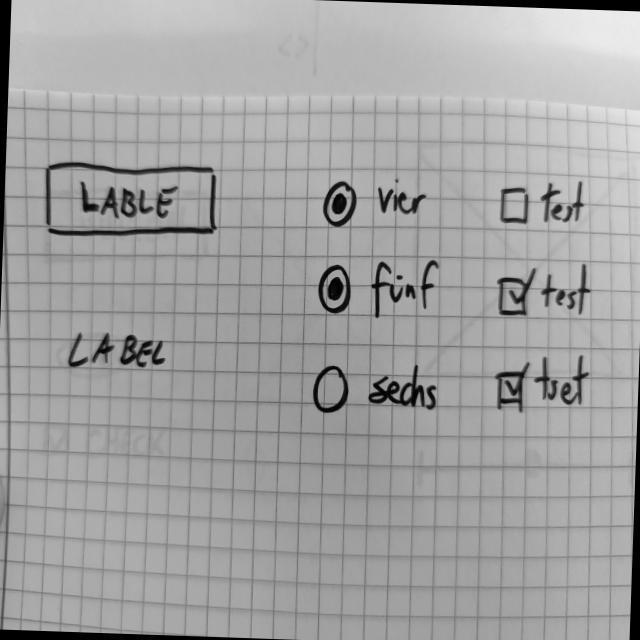button: (42, 156, 223, 244)
checkbox: (494, 348, 591, 416), (496, 257, 592, 324), (499, 172, 589, 231)
label: (65, 325, 173, 377)
radio: (315, 254, 357, 321), (311, 360, 355, 419), (322, 174, 363, 232)
